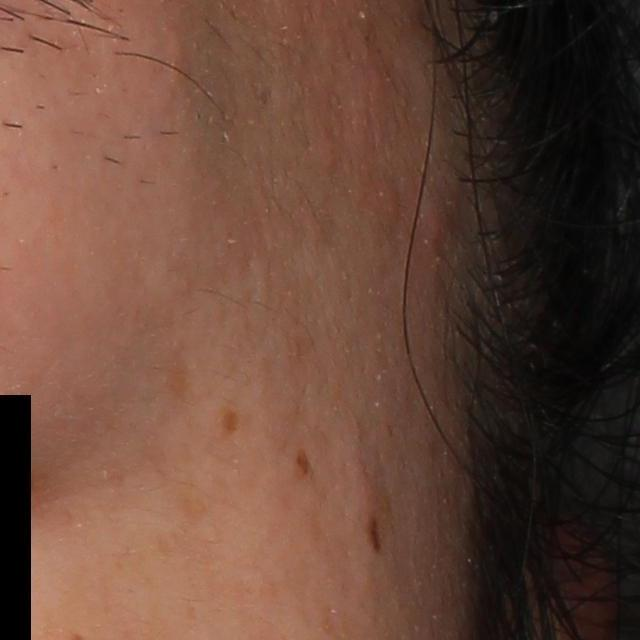melasma: (213, 403, 243, 442)
nevus: (364, 511, 387, 557)
